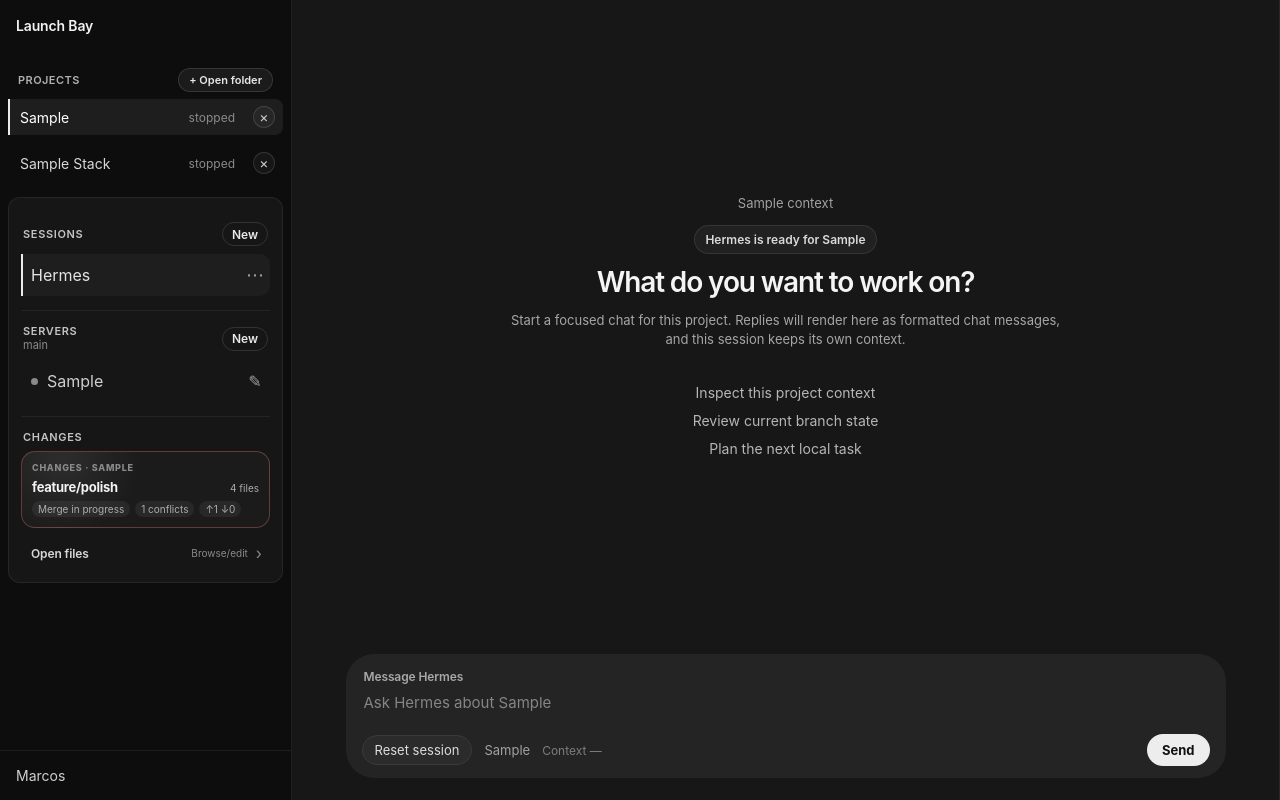
Test case: Launch Bay shell › groups changed files by status and copies the selected diff
What coordinates should you click on to do the following:
click the button with aria-label "Expand changes workbench"
I would click on:
 (146, 490)
Its box is left=21, top=451, right=270, bottom=528.
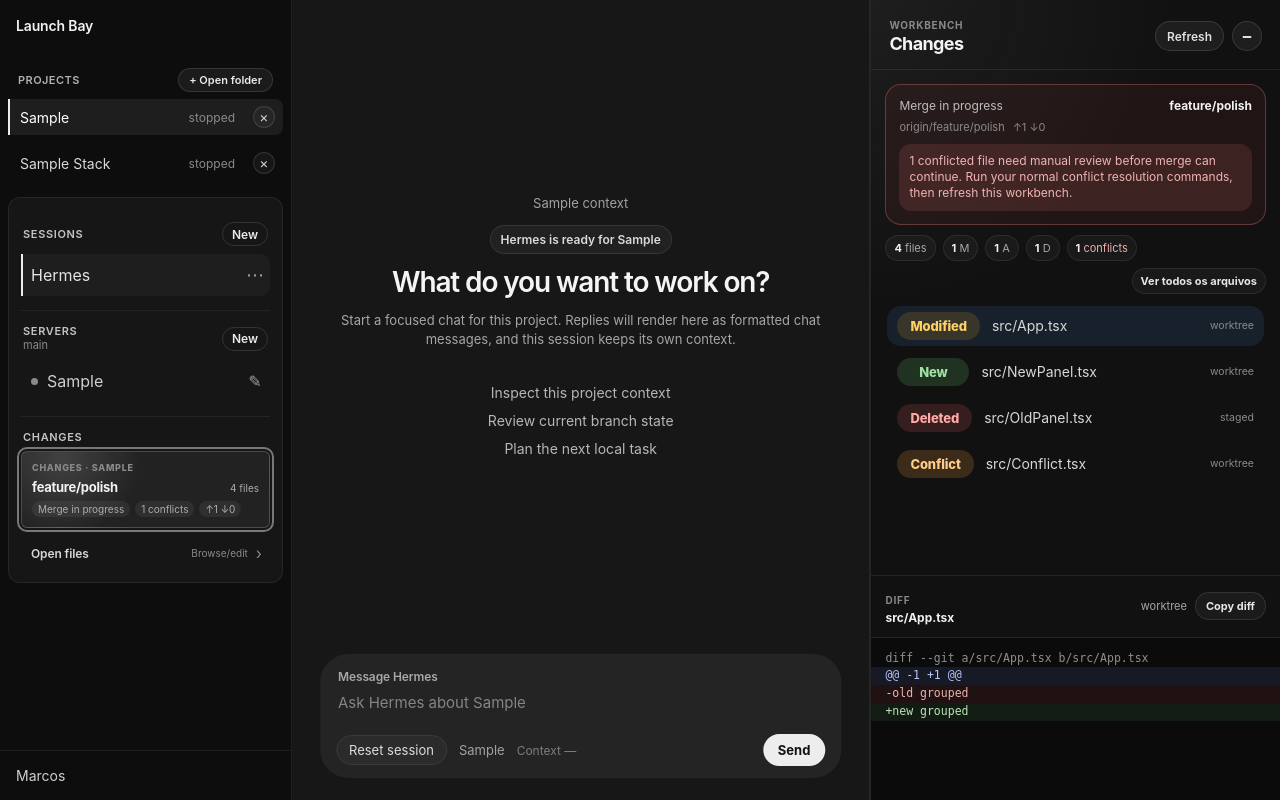
Expected: the button "Modified src/App.tsx worktree" is shown, left=887, top=306, right=1264, bottom=346
Expected: the button "New src/NewPanel.tsx worktree" is shown, left=887, top=352, right=1264, bottom=392
Expected: the button "Deleted src/OldPanel.tsx staged" is shown, left=887, top=398, right=1264, bottom=438
What coordinates should you click on to do the following:
click the button with aria-label "Copy selected diff"
I would click on:
 (1230, 606)
Its box is left=1195, top=592, right=1266, bottom=620.
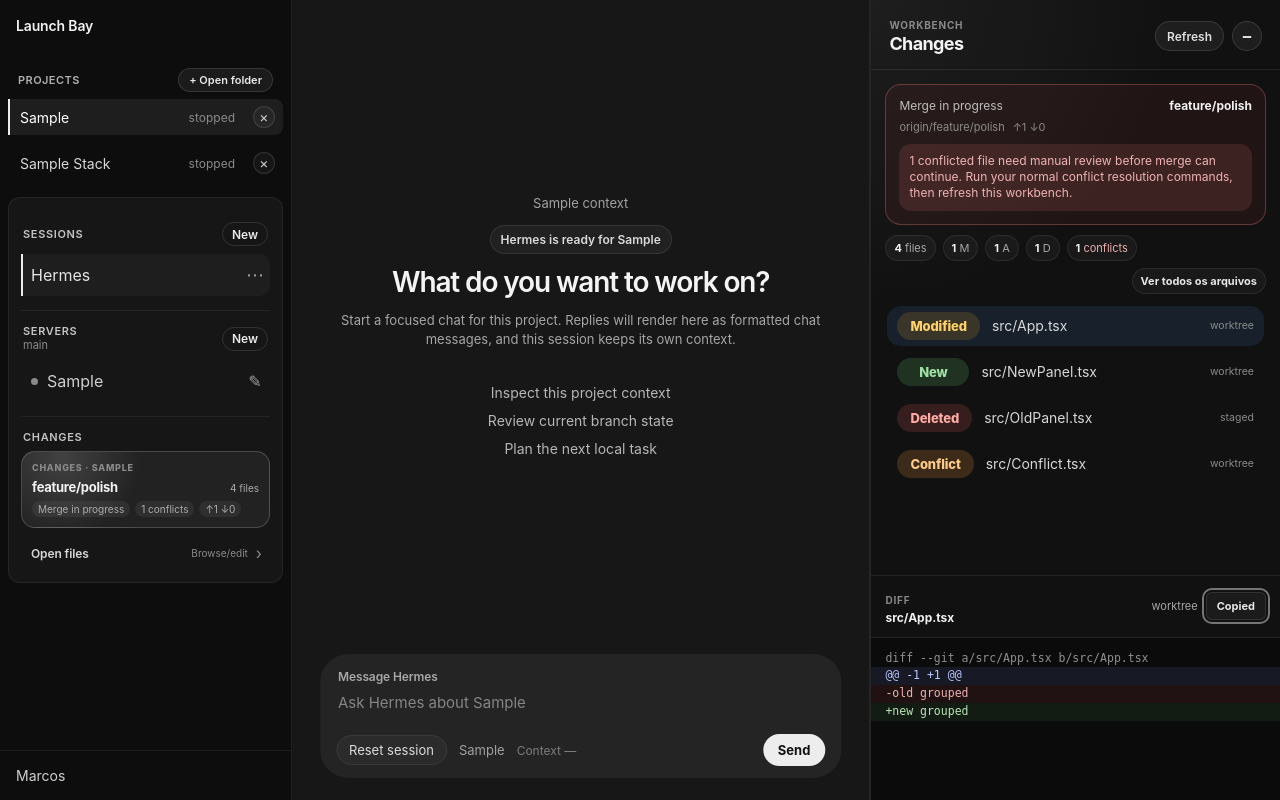
Expected: the button with aria-label "Copy selected diff" reads "Copied", left=1206, top=592, right=1266, bottom=620
